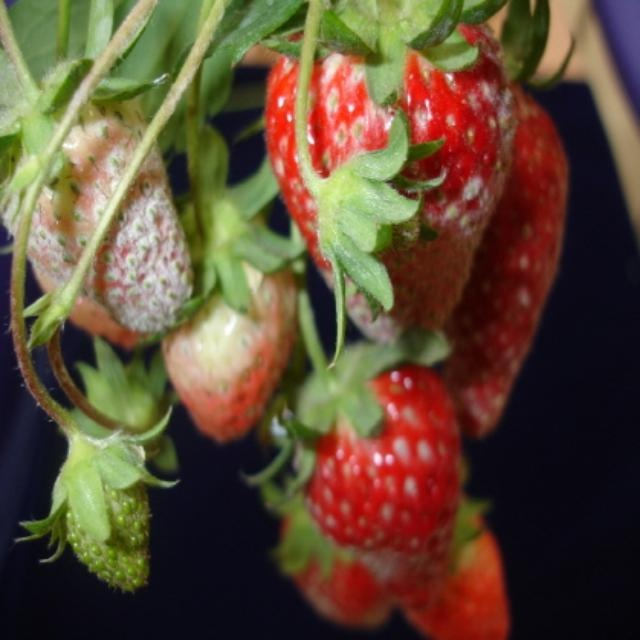Powdery Mildew Fruit: (267, 0, 524, 348), (2, 65, 196, 334), (425, 88, 571, 436), (290, 346, 466, 608)
